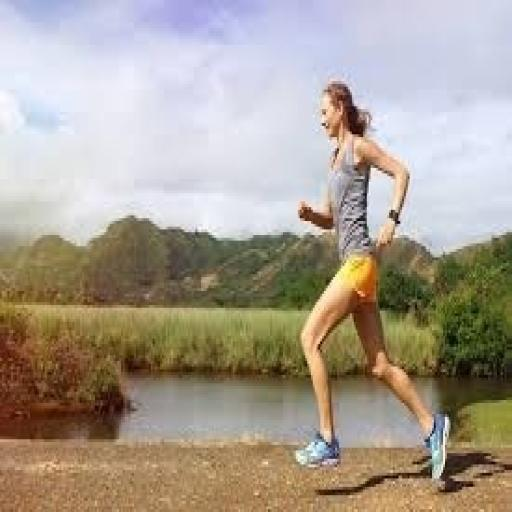running: (292, 76, 454, 484)
